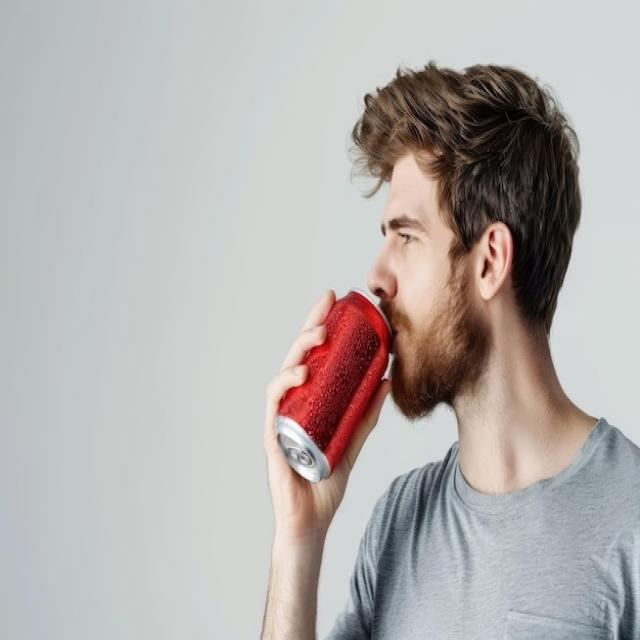soda_can: (276, 267, 399, 481)
